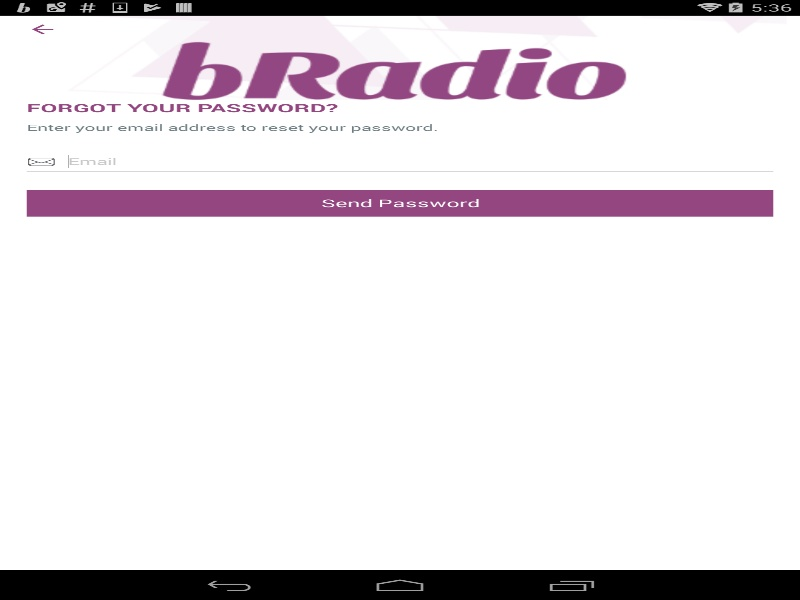Button: (26, 189, 773, 216), (26, 21, 58, 36)
Input: (26, 152, 773, 170)
